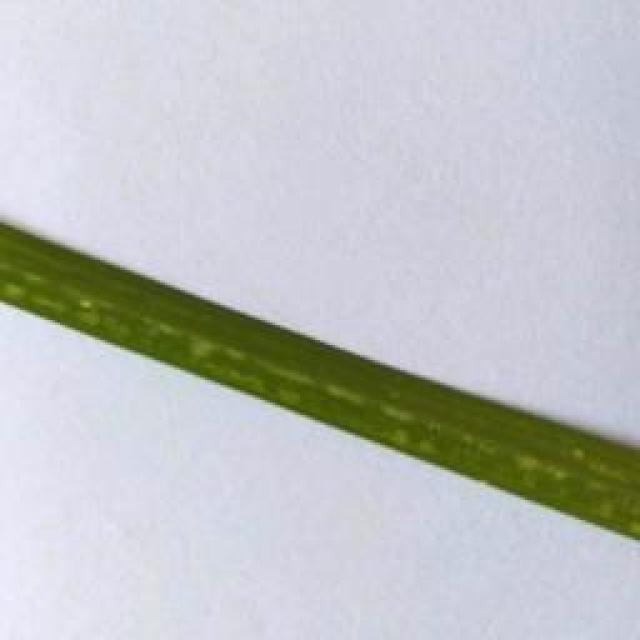Healthy-Plant: (0, 224, 640, 540)
